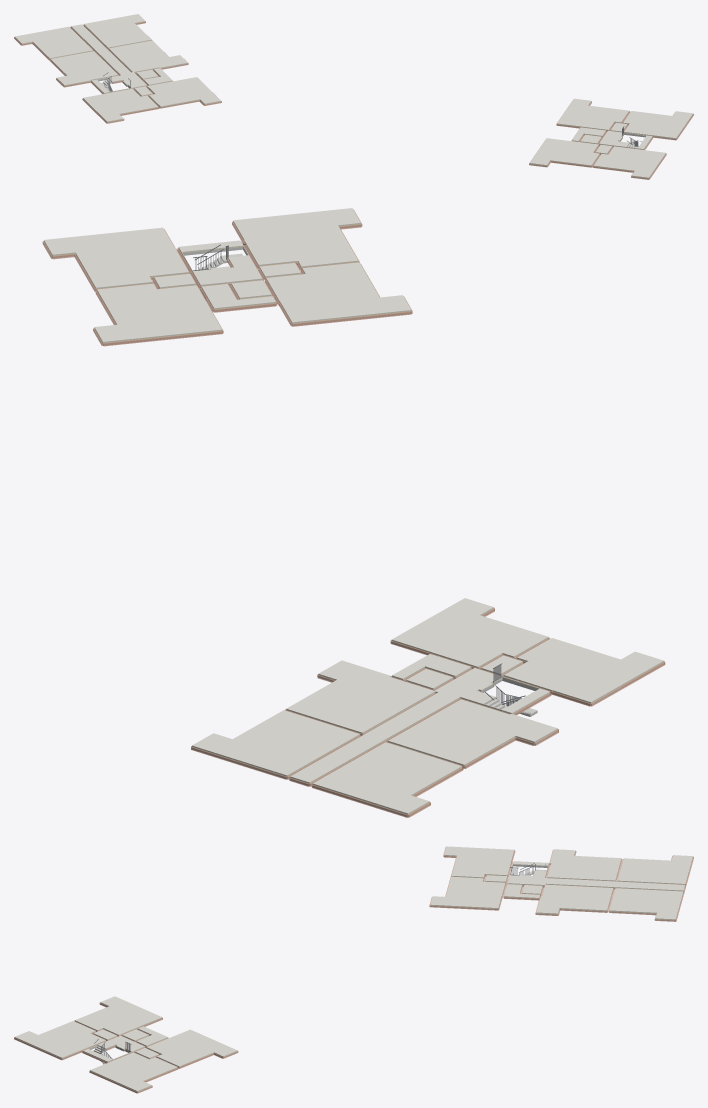
The model's file is stage-5.glb.
3 renders of one model, top to bottom at view 1: azimuth 30°, elevation 25°; view 2: azimuth 150°, elevation 25°; view 3: azimuth 270°, elevation 25°, orthographic. The views are drawn at different scales.
Parts seen in each view (by area): view 1: Geom3D (×4); view 2: Geom3D (×4); view 3: Geom3D (×4).
Part boxes in pixels (x1,y1,x2,y2): Geom3D (×4): (14,14,693,179); Geom3D (×4): (42,208,665,817); Geom3D (×4): (14,846,693,1093).
Size of the model in its own units: 75.81 by 4.17 by 88.82.
